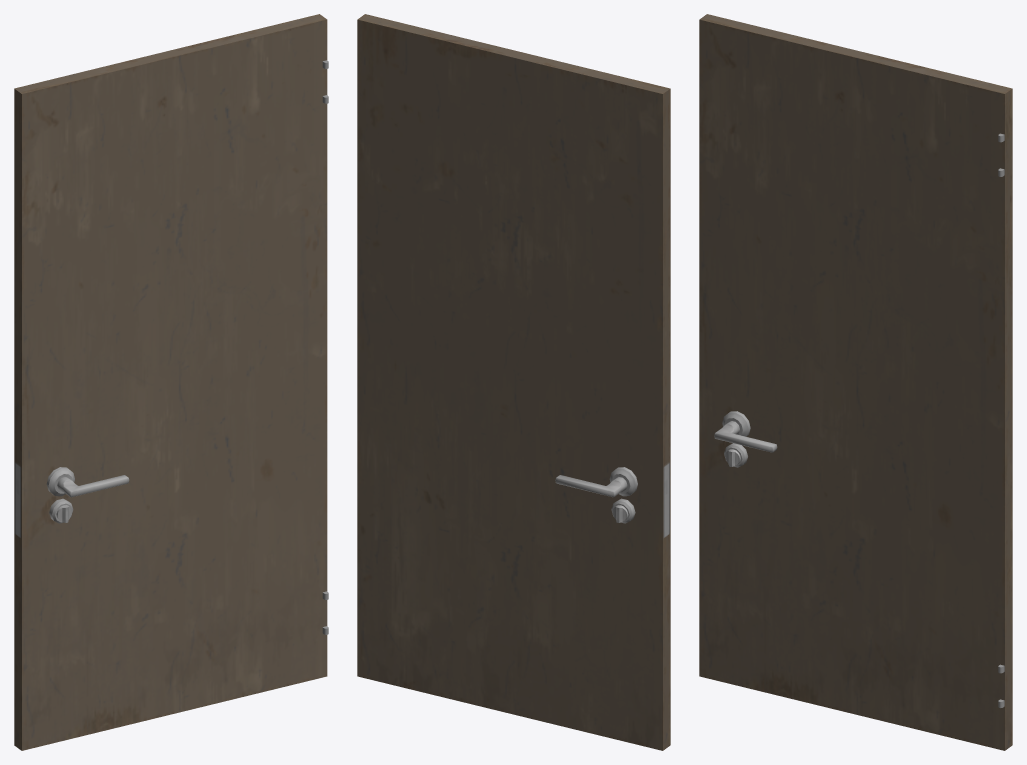
Rendered from SM_RestroomCabinDoor.fbx.
3 views of the same model, side by side, from view 1: azimuth 30°, elevation 25°; view 2: azimuth 150°, elevation 25°; view 3: azimuth 330°, elevation 25° (orthographic).
Parts seen in each view (by area): view 1: SM_RestroomCabinDoor_LOD0; view 2: SM_RestroomCabinDoor_LOD0; view 3: SM_RestroomCabinDoor_LOD0.
Boxes of the visible parts, bbox=[...] form: SM_RestroomCabinDoor_LOD0: bbox=[14, 14, 328, 750]; SM_RestroomCabinDoor_LOD0: bbox=[357, 14, 670, 750]; SM_RestroomCabinDoor_LOD0: bbox=[699, 14, 1012, 750].
Size of the model in its own units: 95.78 by 22.58 by 197.
